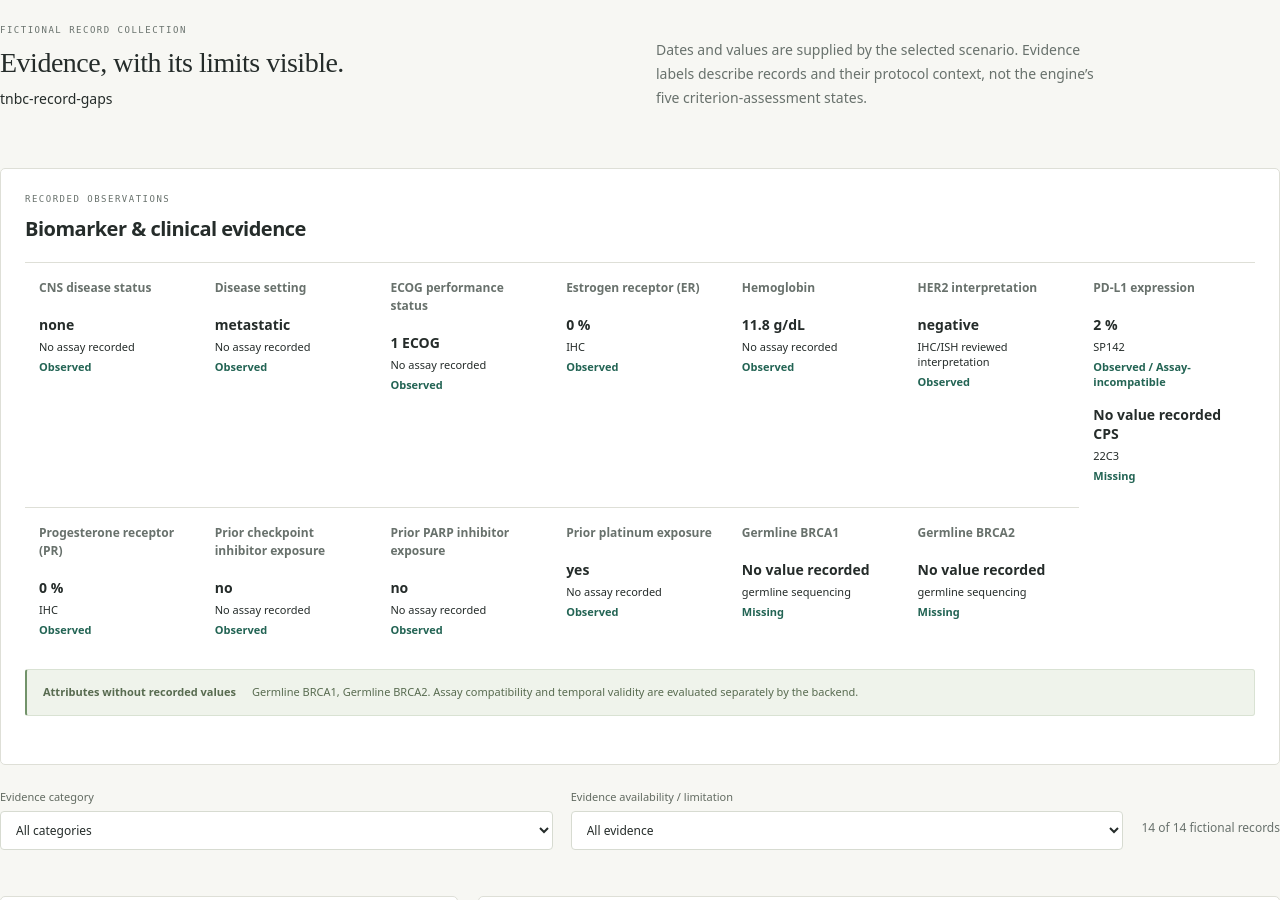
Scenario: orders actual timestamps and keeps unknown dates separate without inventing observations
The width and height of the screenshot is (1280, 900).
Select "Missing" in the dropdown labelled "Evidence availability / limitation" at x=847, y=830, box [571,811,1123,850]
(page scrolled)
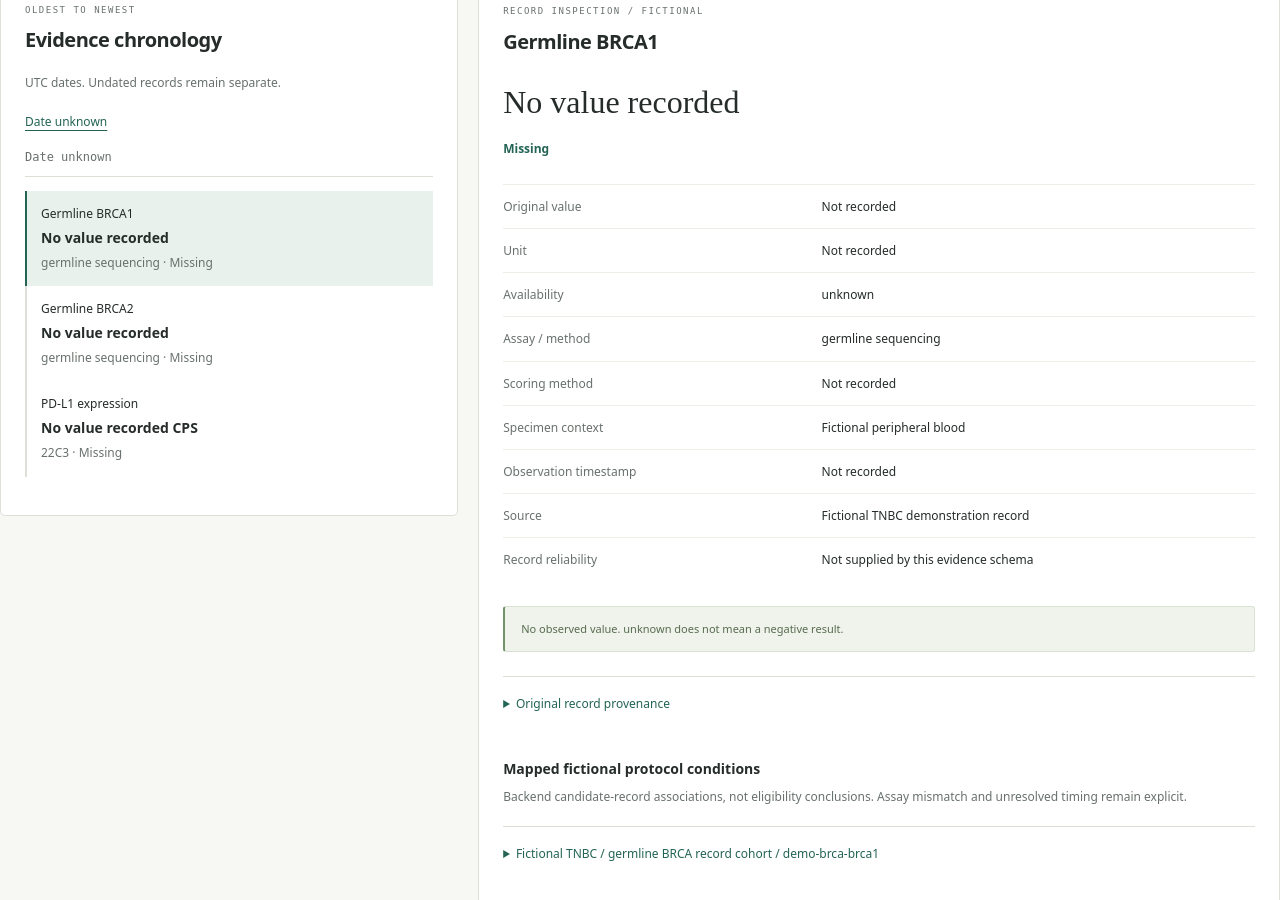
expect the button that starts with "Germline BRCA1" is shown: met, box [25,191,433,286]
expect the element named "Evidence record inspector" shows "No observed value": met, box [521,620,623,636]
